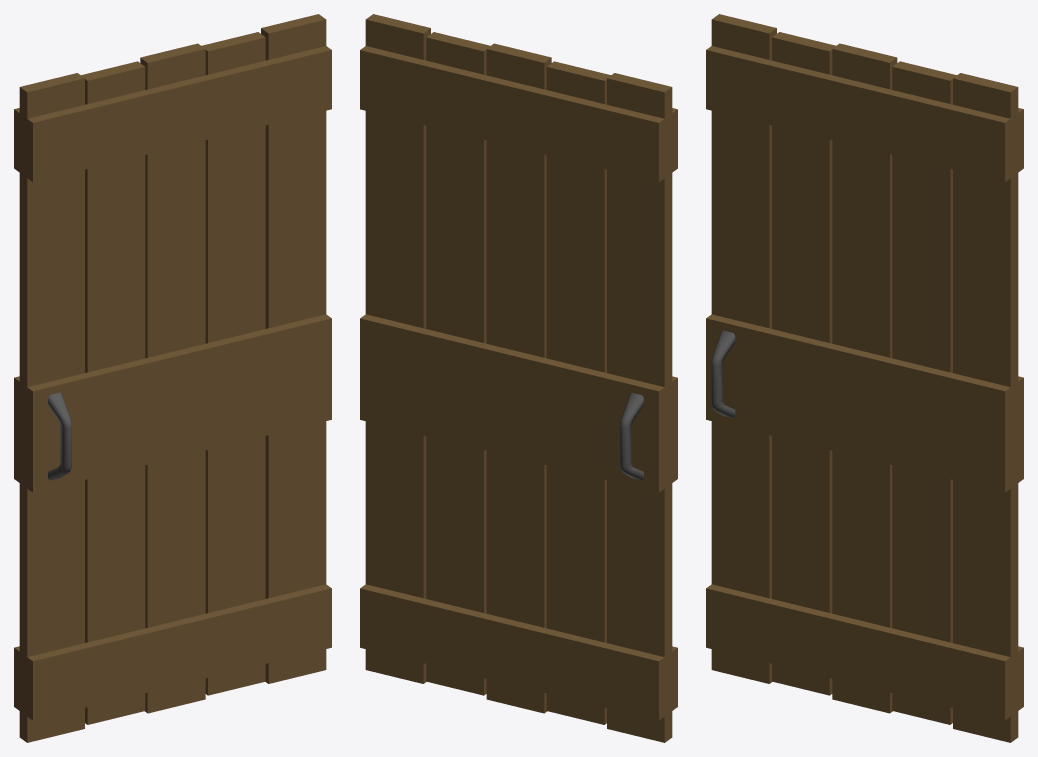
File: WoodDoor-bkn.FBX
The picture shows the model from 3 angles, left to right: view 1: azimuth 30°, elevation 25°; view 2: azimuth 150°, elevation 25°; view 3: azimuth 330°, elevation 25°; orthographic projection.
Parts seen in each view (by area): view 1: WoodDoor_Part_3, WoodDoor_Part_6, WoodDoor_Part_8, WoodDoor_Part_4, WoodDoor_Part_2, WoodDoor_Part_1, WoodDoor_Part_10, Object004, Object009, Object005, Object006, WoodDoor_Part_5 (+4 smaller); view 2: WoodDoor_Part_3, WoodDoor_Part_6, WoodDoor_Part_8, WoodDoor_Part_4, WoodDoor_Part_2, WoodDoor_Part_1, Object009, WoodDoor_Part_5, Object004, WoodDoor_Part_10, Object005, Object006 (+4 smaller); view 3: WoodDoor_Part_3, WoodDoor_Part_6, WoodDoor_Part_8, WoodDoor_Part_4, WoodDoor_Part_2, WoodDoor_Part_1, WoodDoor_Part_10, Object004, Object009, Object005, Object006, WoodDoor_Part_5 (+4 smaller).
Boxes of the visible parts, box(x1,y1,x2,y2) form: WoodDoor_Part_3: box(145, 166, 331, 434); WoodDoor_Part_6: box(14, 583, 331, 742); WoodDoor_Part_8: box(47, 399, 326, 549); WoodDoor_Part_4: box(144, 14, 331, 200); WoodDoor_Part_2: box(14, 56, 179, 229); WoodDoor_Part_1: box(14, 259, 138, 508); WoodDoor_Part_10: box(134, 249, 245, 424); Object004: box(19, 499, 84, 624); Object009: box(19, 178, 84, 323); Object005: box(85, 505, 145, 615); Object006: box(145, 516, 205, 607); WoodDoor_Part_5: box(88, 287, 148, 462); WoodDoor_Part_3: box(360, 166, 546, 434); WoodDoor_Part_6: box(360, 580, 677, 742); WoodDoor_Part_8: box(365, 397, 644, 548); WoodDoor_Part_4: box(360, 14, 546, 201); WoodDoor_Part_2: box(513, 56, 677, 227); WoodDoor_Part_1: box(552, 260, 677, 508); Object009: box(607, 181, 672, 324); WoodDoor_Part_5: box(521, 263, 611, 470); Object004: box(607, 499, 672, 621); WoodDoor_Part_10: box(453, 251, 552, 415); Object005: box(546, 505, 606, 613); Object006: box(486, 516, 546, 605); WoodDoor_Part_3: box(832, 202, 1023, 507); WoodDoor_Part_6: box(706, 552, 1023, 742); WoodDoor_Part_8: box(731, 409, 1018, 622); WoodDoor_Part_4: box(837, 44, 1023, 238); WoodDoor_Part_2: box(706, 14, 863, 219); WoodDoor_Part_1: box(706, 241, 823, 436); WoodDoor_Part_10: box(815, 236, 918, 429); Object004: box(711, 435, 771, 571); Object009: box(711, 114, 771, 250); Object005: box(772, 463, 832, 592); Object006: box(832, 504, 892, 613); WoodDoor_Part_5: box(761, 266, 832, 417).
Size of the model in its own units: 101 by 210 by 28.3.
